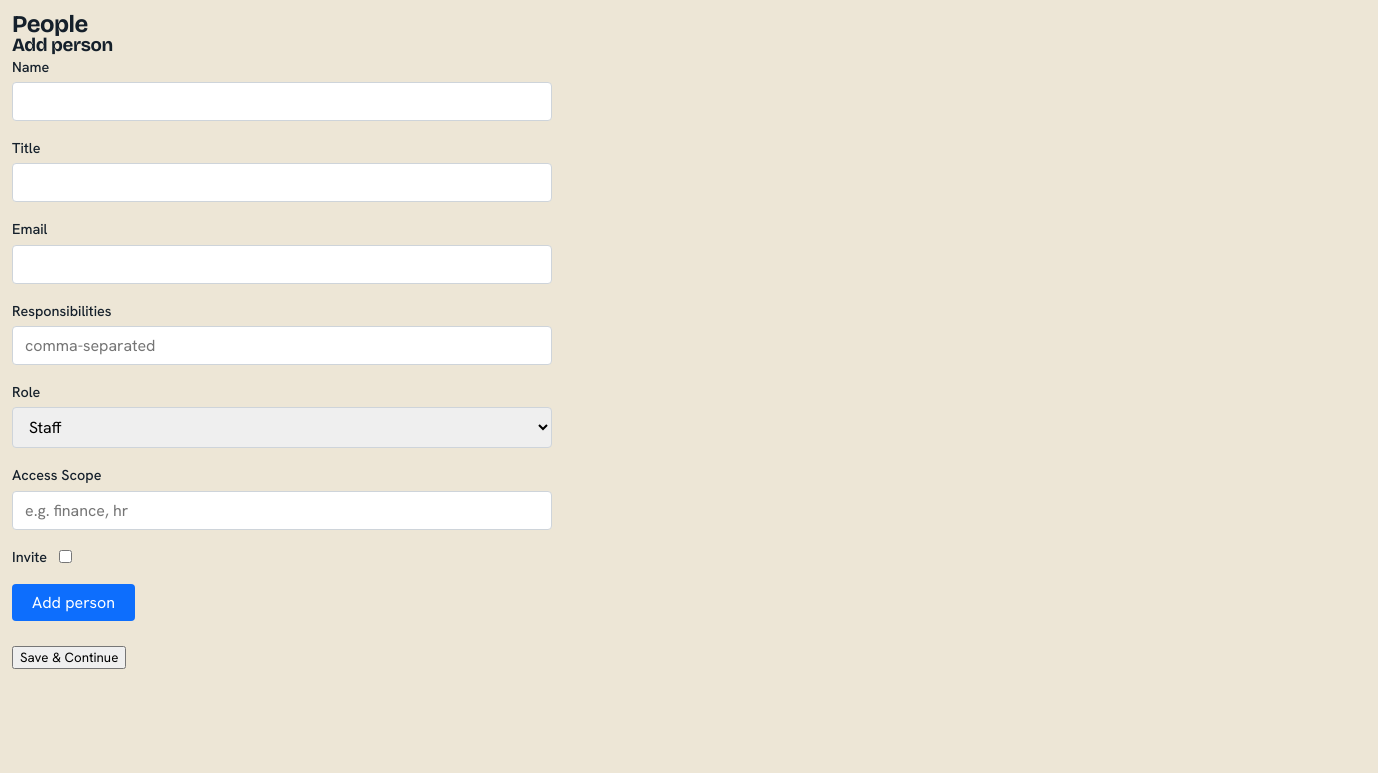
Test: PeopleStep › owner row has no Remove button; non-owner rows do
// Add owner (matching currentUserEmail)
Type "Owner Person" into the field labelled "Name". click: coordinates (282, 101)
box: [12,82,552,121]
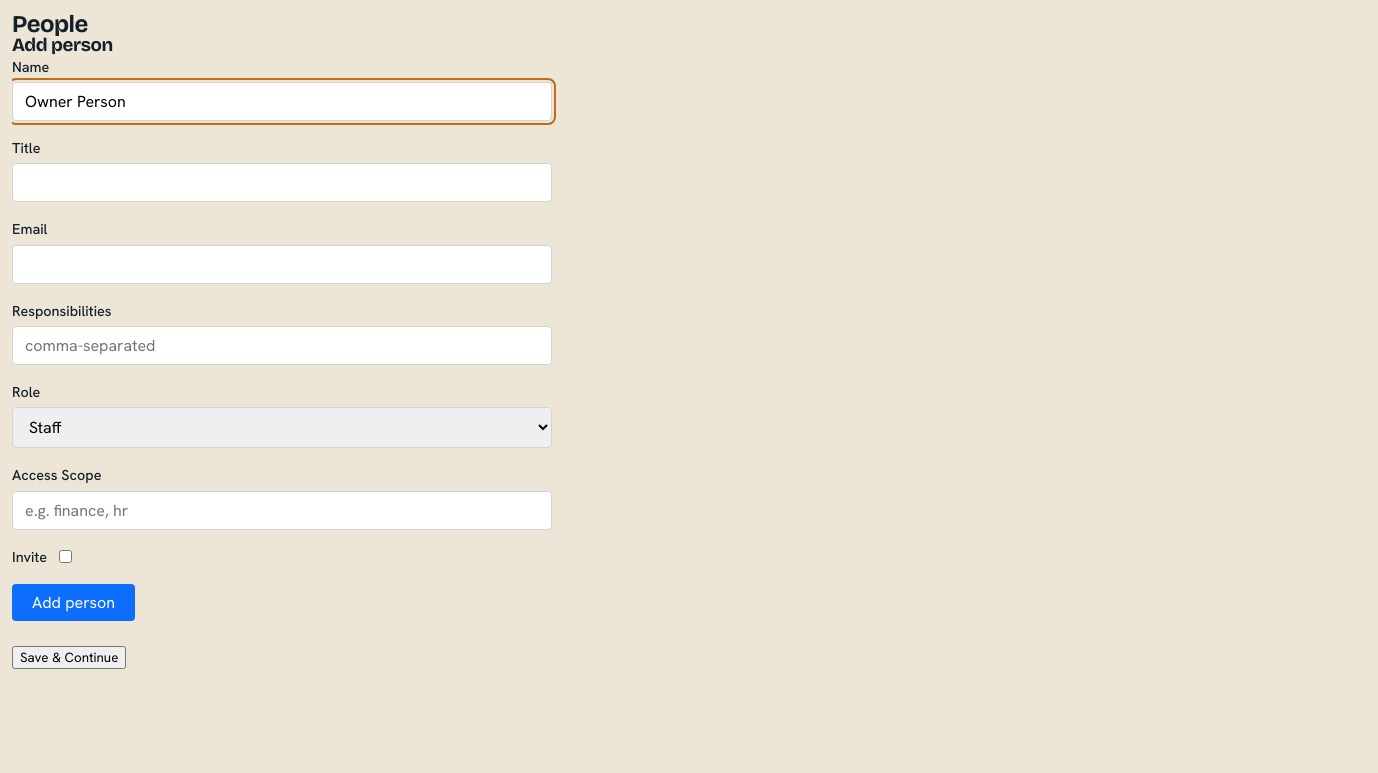
Type "owner@example.com" into the field labelled "Email". click: coordinates (282, 264)
box: [12,244,552,284]
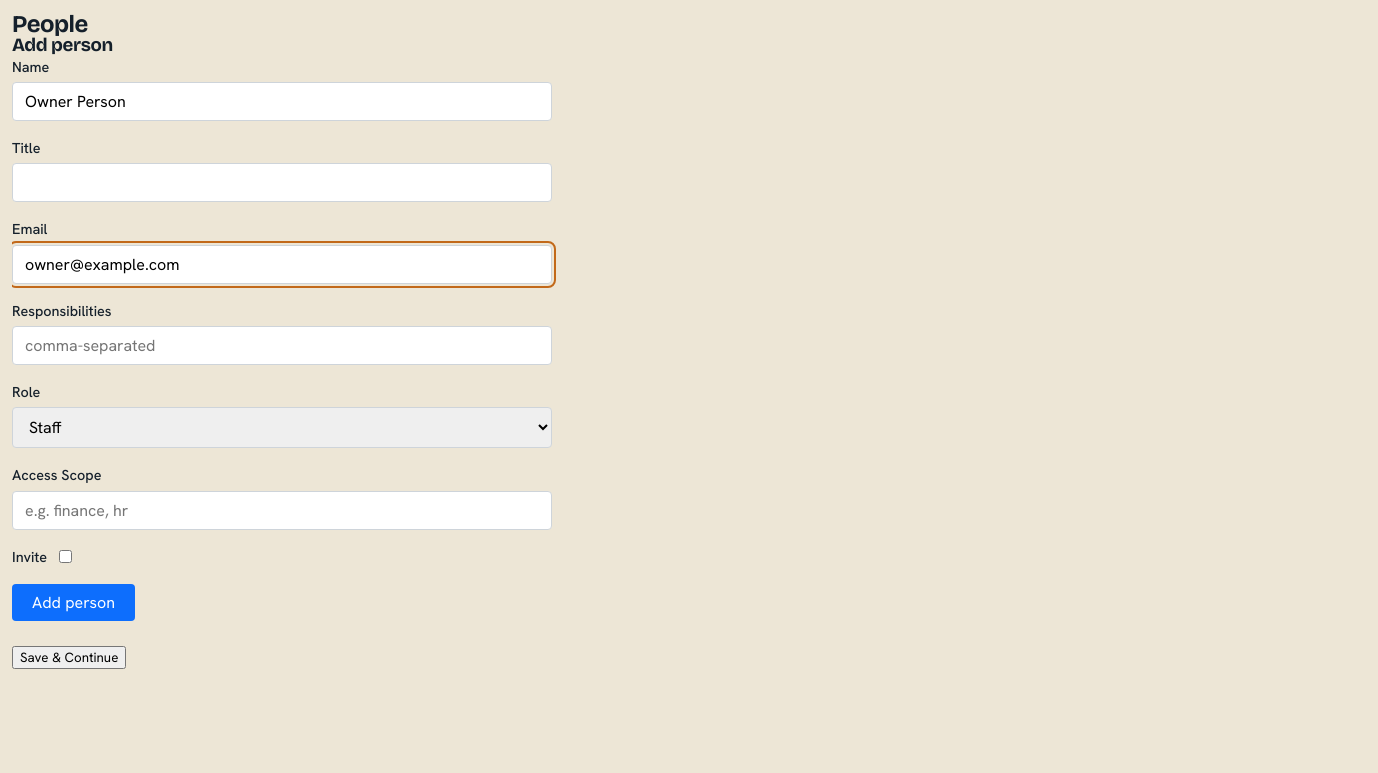
Click the button "Add person". click: coordinates (74, 602)
box: [12,584,135,621]
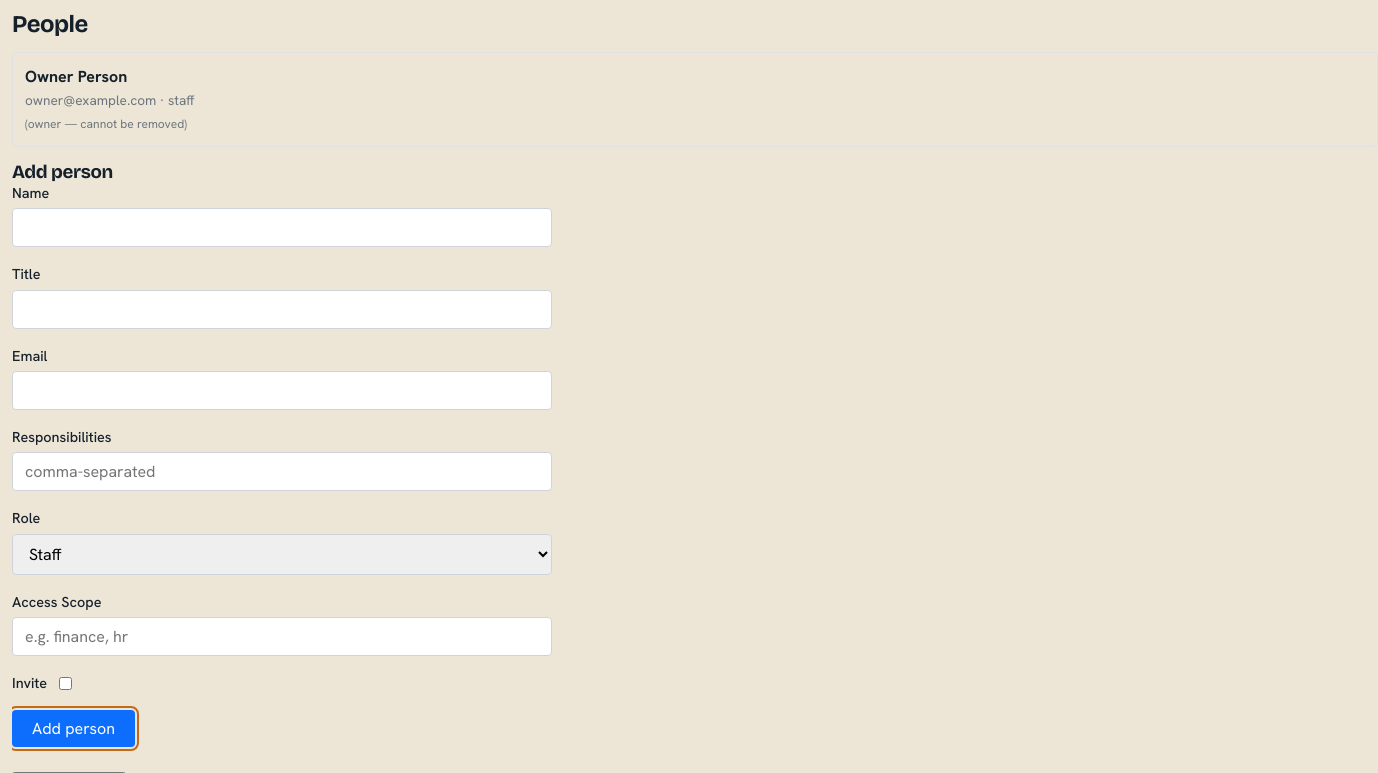
// Add a non-owner
Type "Staff Member" into the field labelled "Name". click: coordinates (282, 228)
box: [12,208,552,247]
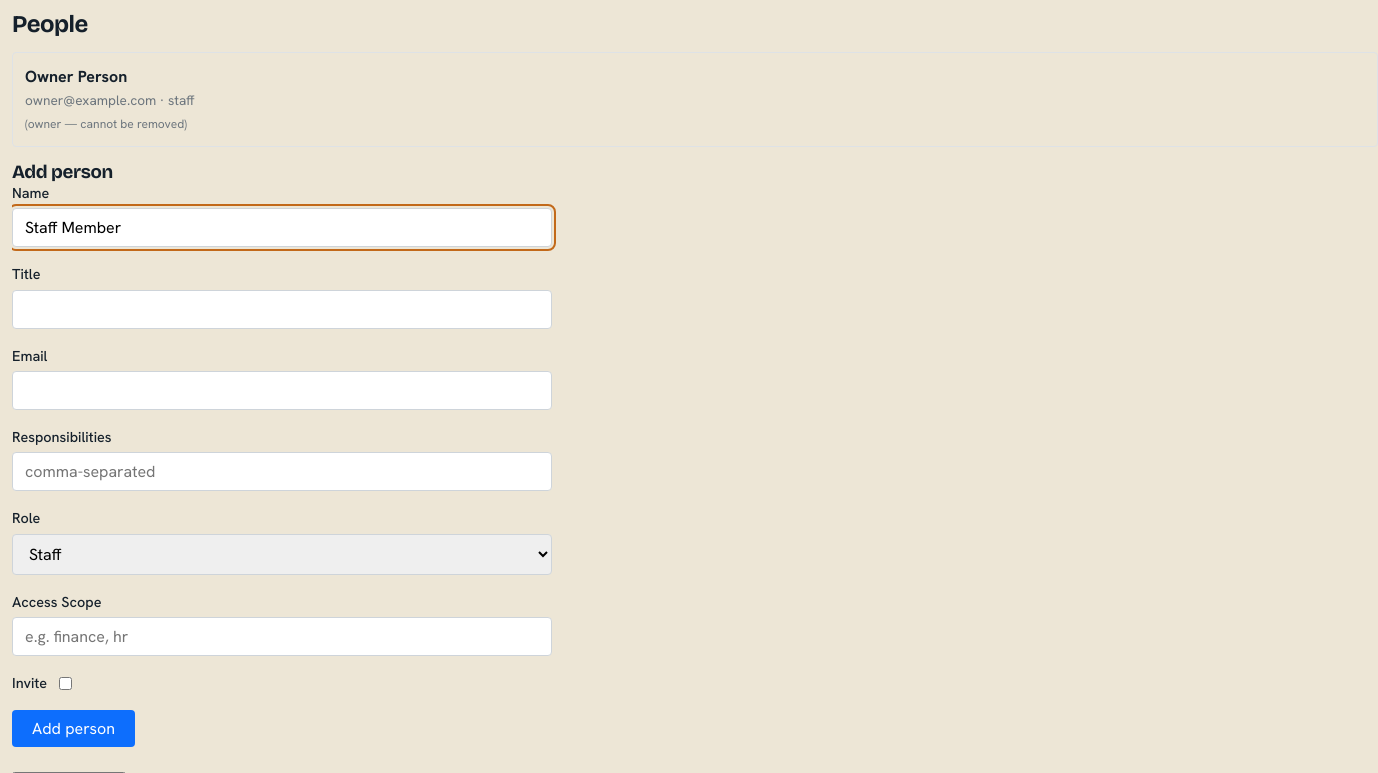
Type "staff@example.com" into the field labelled "Email". click: coordinates (282, 390)
box: [12,371,552,410]
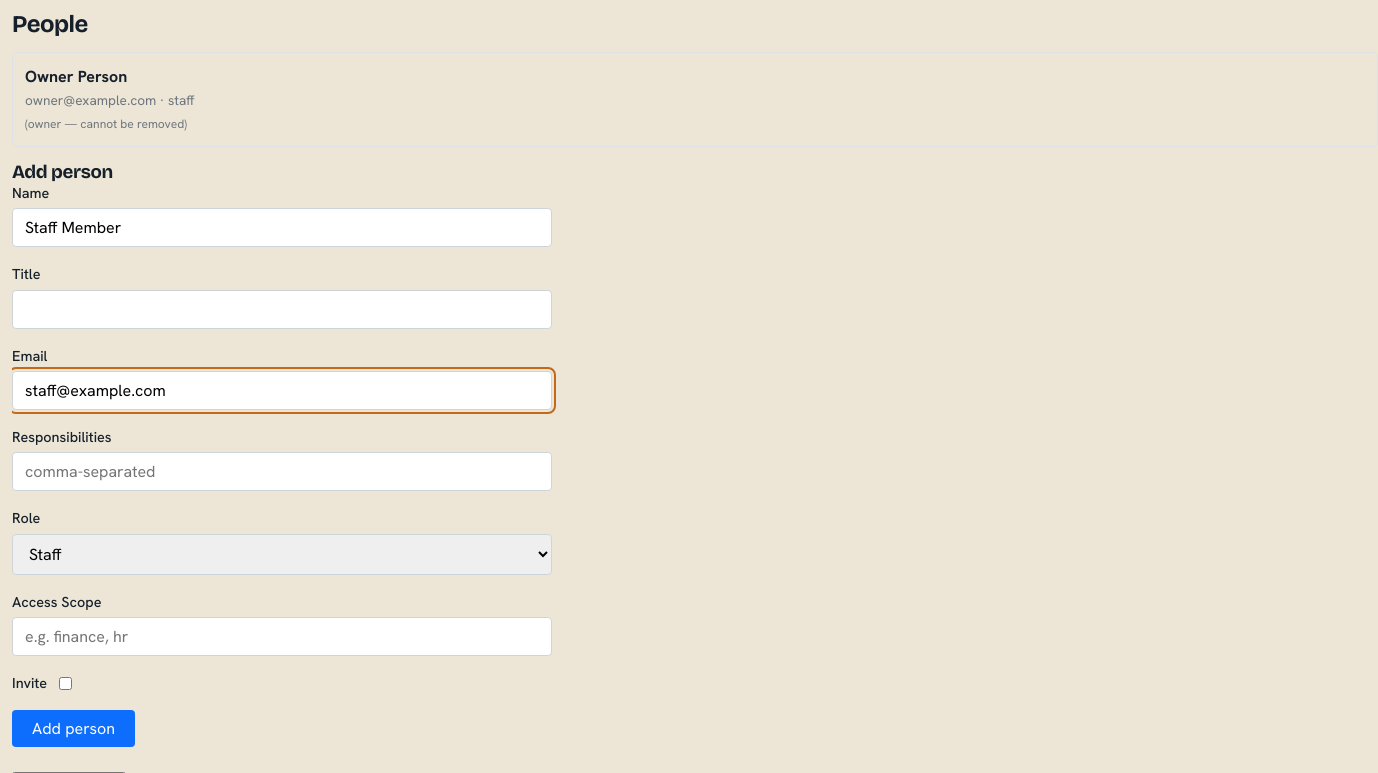
Click the button "Add person". click: coordinates (74, 729)
box: [12,710,135,747]
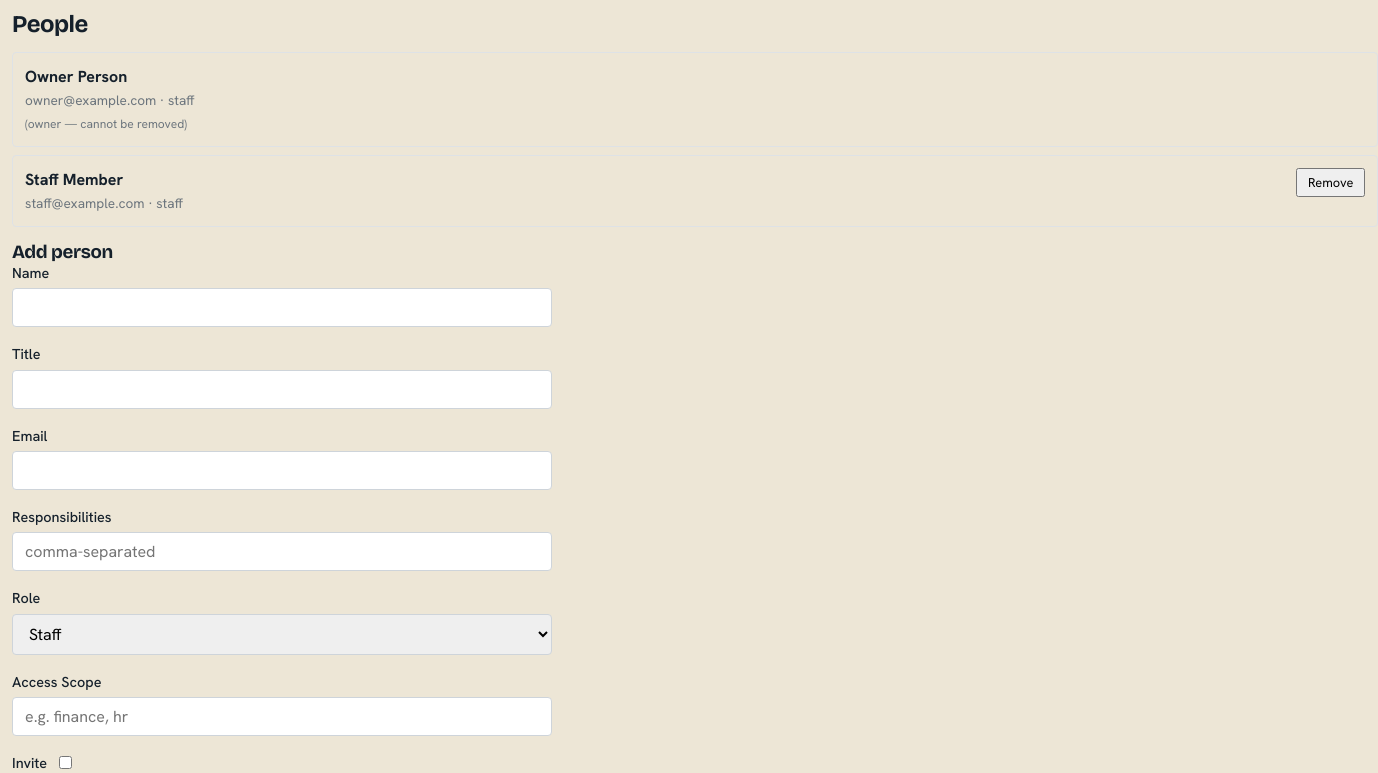
Expected: the list item that starts with "Owner Person" is shown, [12,52,1377,147]
Expected: the list item "Staff Member staff@example.com · staff Remove" is shown, [12,155,1377,227]
Expected: the button "Remove" is shown, [1296,168,1365,197]
